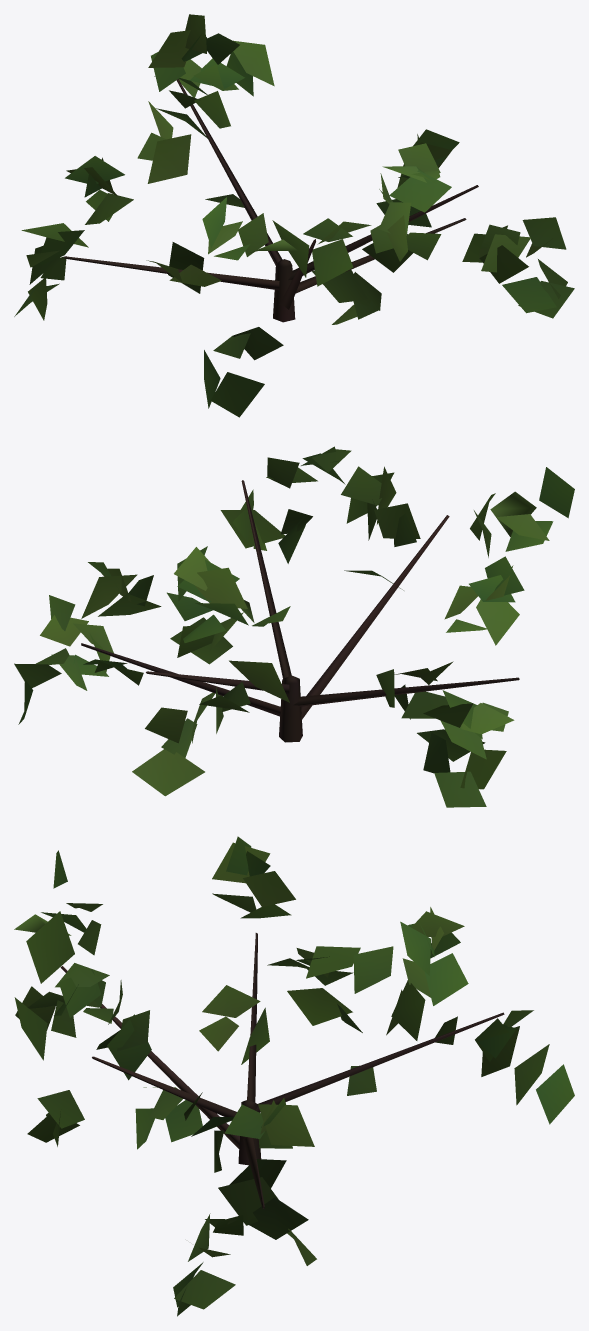
The model's file is bush-bramble-b.lod2.glb.
The picture shows the model from 3 angles, top to bottom: view 1: azimuth 30°, elevation 25°; view 2: azimuth 150°, elevation 25°; view 3: azimuth 270°, elevation 25°; orthographic projection. The views are drawn at different scales.
Parts seen in each view (by area): view 1: bush-bramble-b.lod2; view 2: bush-bramble-b.lod2; view 3: bush-bramble-b.lod2.
Part boxes in pixels (box(x1,y1,x2,y2)): bush-bramble-b.lod2: box(14, 14, 574, 417); bush-bramble-b.lod2: box(14, 446, 574, 807); bush-bramble-b.lod2: box(14, 836, 574, 1316).
Size of the model in its own units: 1.73 by 0.9743 by 1.62.
